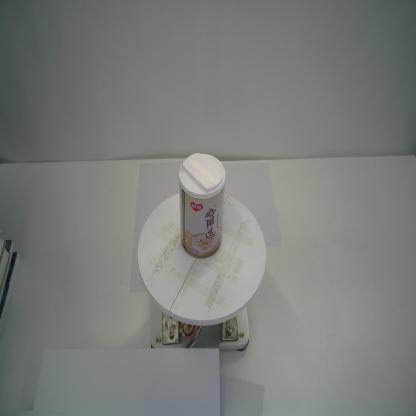Canned Food: (177, 150, 228, 261)
